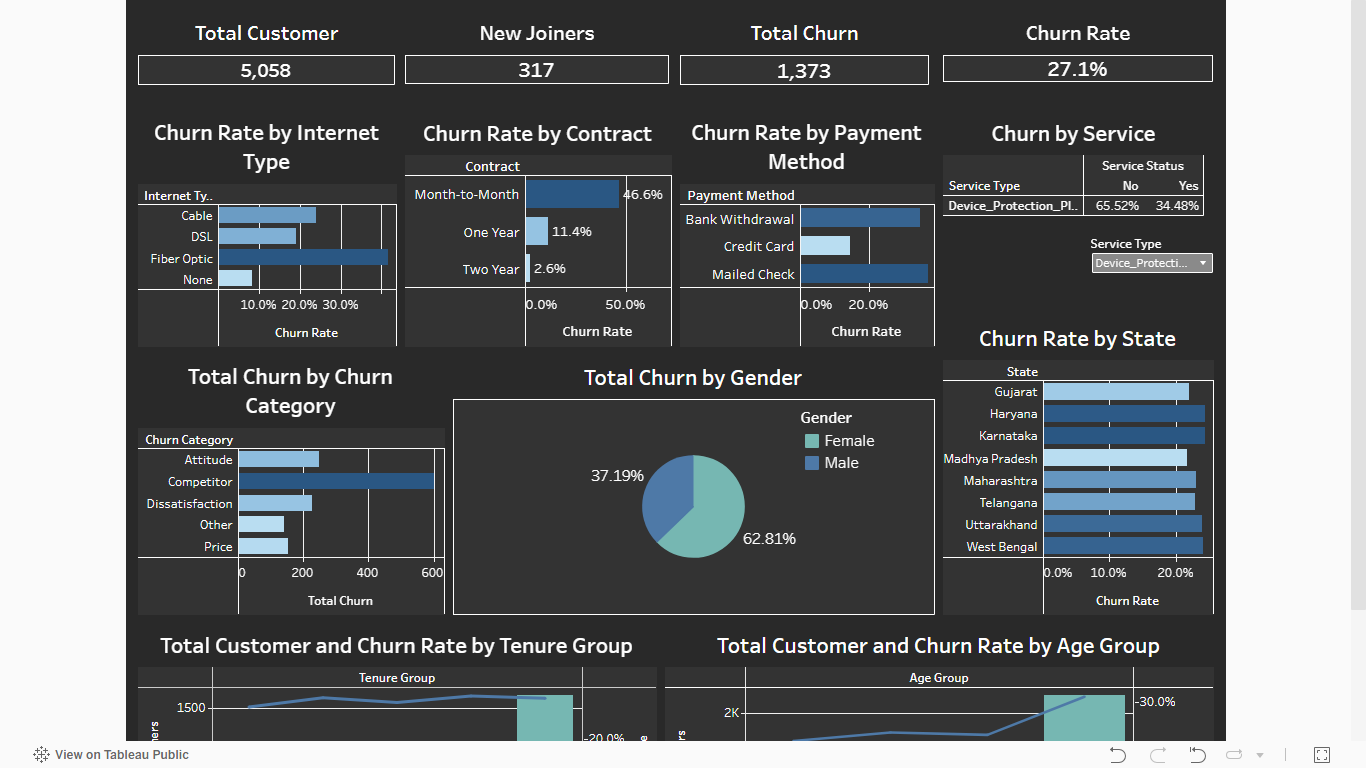

Layout of this report page (visuals, bound fields, positions):
{"tool":"tableau","page":{"name":"Dashboard 1","canvas":[1100,900],"ordinal":0},"visuals":[{"type":"worksheet","title":"Sheet 1","mark":"Automatic","box":[8,8,266.6,99.2]},{"type":"worksheet","title":"Sheet 1 (2)","mark":"Automatic","box":[274.6,8,275.4,99.2]},{"type":"worksheet","title":"Sheet 1 (3)","mark":"Automatic","box":[550,8,263.3,99.2]},{"type":"worksheet","title":"Sheet 1 (4)","mark":"Automatic","box":[813.3,8,278.7,99.2]},{"type":"worksheet","title":"Sheet 10 (3)","mark":"Automatic","rows":["Internet_Type"],"cols":["Calculation_663999538268340229"],"box":[8,107.2,267,243.6]},{"type":"worksheet","title":"Sheet 7 (2)","mark":"Automatic","rows":["Contract"],"cols":["Calculation_663999538268340229"],"box":[275,107.2,275,243.6]},{"type":"worksheet","title":"Sheet 7","mark":"Automatic","rows":["Payment_Method"],"cols":["Calculation_663999538268340229"],"box":[550,107.2,263.3,243.6]},{"type":"worksheet","title":"Sheet 13","mark":"Automatic","rows":["Service_Type"],"cols":["Service_Status"],"box":[813.3,107.2,278.7,204.8]},{"type":"filter","title":"Sheet 13","param":"[federated.1vcn2sj1gy6h0213j6pyu1e79xuo].[none:Service_Type:nk]","box":[964.7,234,123.2,49.5]},{"type":"worksheet","title":"Sheet 10","mark":"Automatic","rows":["State"],"cols":["Calculation_663999538268340229"],"box":[813.3,312,278.7,307.1]},{"type":"worksheet","title":"Sheet 10 (2)","mark":"Automatic","rows":["Churn_Category"],"cols":["Calculation_663999538267979780"],"box":[8,350.8,315,268.4]},{"type":"worksheet","title":"Sheet 5","mark":"Pie","box":[323,350.8,490.3,268.4]},{"type":"legend","title":"Sheet 5","param":"[federated.1vcn2sj1gy6h0213j6pyu1e79xuo].[none:Gender:nk]","box":[675,407,154,74]},{"type":"worksheet","title":"Sheet 9","mark":"Automatic","rows":["Calculation_663999538265280514","Calculation_663999538268340229"],"cols":["Calculation_94012645122928641"],"box":[8,619.1,527,272.9]},{"type":"worksheet","title":"Sheet 6","mark":"Automatic","rows":["Calculation_663999538265280514","Calculation_663999538268340229"],"cols":["Calculation_94012645118816256"],"box":[535,619.1,557,272.9]},{"type":"legend","title":"Sheet 6","param":"[federated.1vcn2sj1gy6h0213j6pyu1e79xuo].[:Measure Names]","box":[474,843,140,59]}]}

Visuals, with their boxes on the page's 1100x900 design canvas (x1, y1, x2, y2). These are canvas units, not pixel positions in the 1366x768 screenshot, which may show the page scaled, cropped or inside an application window:
"Sheet 1" worksheet: <bbox>8, 8, 275, 107</bbox>
"Sheet 1 (2)" worksheet: <bbox>275, 8, 550, 107</bbox>
"Sheet 1 (3)" worksheet: <bbox>550, 8, 813, 107</bbox>
"Sheet 1 (4)" worksheet: <bbox>813, 8, 1092, 107</bbox>
"Sheet 10 (3)" worksheet: <bbox>8, 107, 275, 351</bbox>
"Sheet 7 (2)" worksheet: <bbox>275, 107, 550, 351</bbox>
"Sheet 7" worksheet: <bbox>550, 107, 813, 351</bbox>
"Sheet 13" worksheet: <bbox>813, 107, 1092, 312</bbox>
"Sheet 13" filter: <bbox>965, 234, 1088, 284</bbox>
"Sheet 10" worksheet: <bbox>813, 312, 1092, 619</bbox>
"Sheet 10 (2)" worksheet: <bbox>8, 351, 323, 619</bbox>
"Sheet 5" worksheet (Pie marks): <bbox>323, 351, 813, 619</bbox>
"Sheet 5" legend: <bbox>675, 407, 829, 481</bbox>
"Sheet 9" worksheet: <bbox>8, 619, 535, 892</bbox>
"Sheet 6" worksheet: <bbox>535, 619, 1092, 892</bbox>
"Sheet 6" legend: <bbox>474, 843, 614, 902</bbox>
